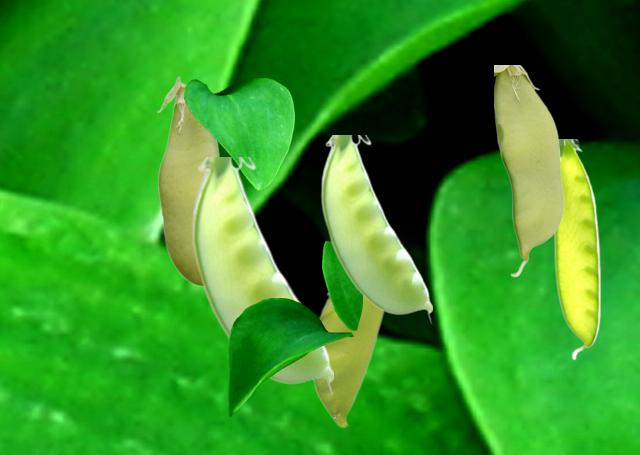pea: (191, 157, 332, 396), (320, 135, 431, 324), (494, 65, 563, 276), (156, 76, 220, 287), (553, 139, 599, 359), (312, 292, 386, 426)
